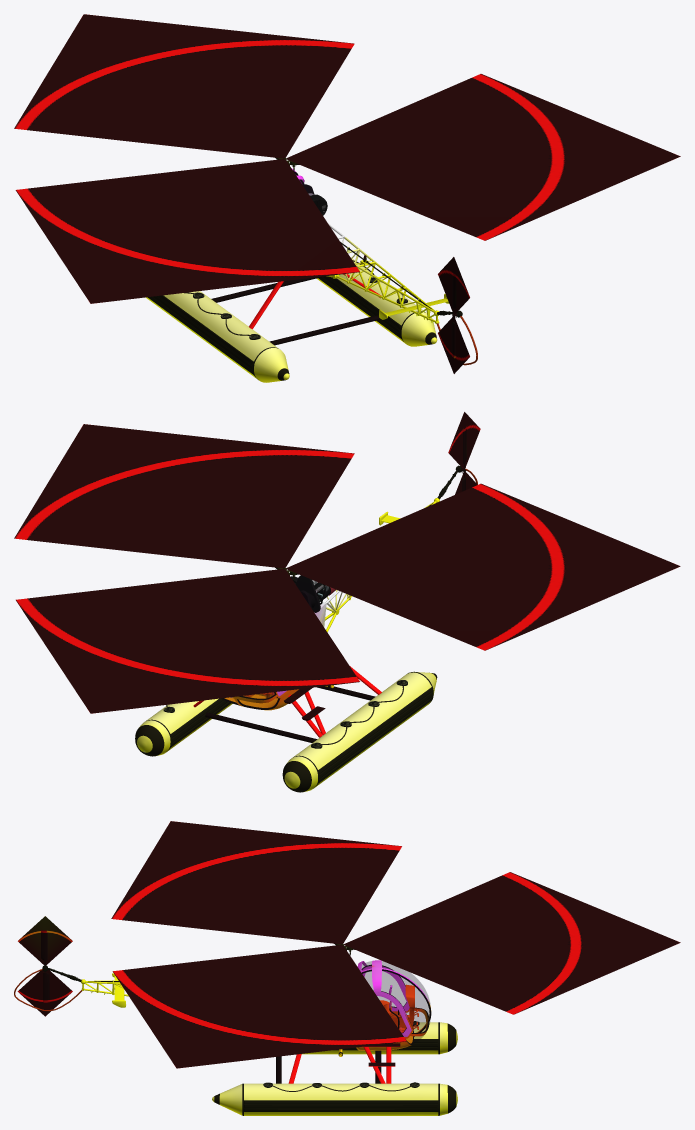
File: seasparrow.glb
The picture shows the model from 3 angles, top to bottom: view 1: azimuth 30°, elevation 25°; view 2: azimuth 150°, elevation 25°; view 3: azimuth 270°, elevation 25°; orthographic projection. The views are drawn at different scales.
Parts seen in each view (by area): view 1: rotor_main_fast, bodyshell, tail, rotor_rear_fast; view 2: rotor_main_fast, bodyshell, rotor_rear_fast; view 3: rotor_main_fast, bodyshell, rotor_rear_fast, windscreen, chassis, tail.
Part boxes in pixels (box(x1,y1,x2,y2)): rotor_main_fast: box(14, 14, 680, 303); bodyshell: box(146, 168, 437, 382); tail: box(336, 237, 477, 365); rotor_rear_fast: box(438, 257, 469, 373); rotor_main_fast: box(14, 424, 680, 713); bodyshell: box(135, 575, 437, 792); rotor_rear_fast: box(448, 412, 480, 494); rotor_main_fast: box(111, 821, 680, 1068); bodyshell: box(212, 960, 457, 1115); rotor_rear_fast: box(17, 916, 72, 1016); windscreen: box(381, 961, 430, 1033); chassis: box(361, 964, 431, 1044); tail: box(14, 965, 130, 1011).
Size of the model in its own units: 12.45 by 3.89 by 14.17.
12 materials, 9 textured.
